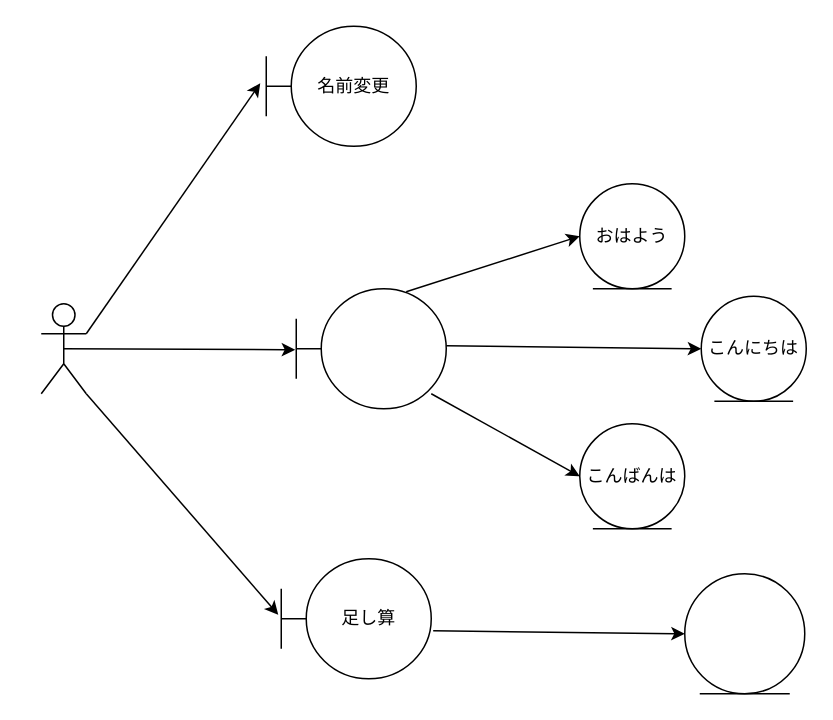
The diagram is 833 pixels wide and 720 high, and some of its shapes have lost their labels. Each missing label, with the centre of its shape:
2つの整数の足し算: (x=744, y=633)
RoboDog: (x=63, y=348)
挨拶: (x=370, y=348)
